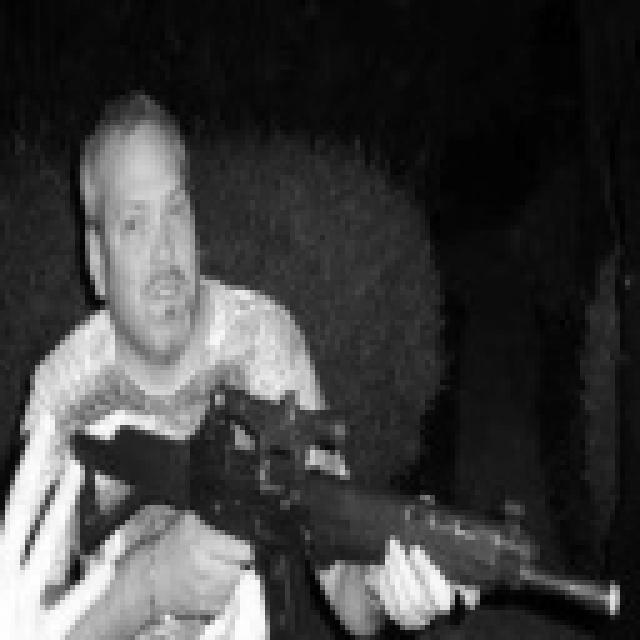Rifle: (55, 365, 635, 640)
